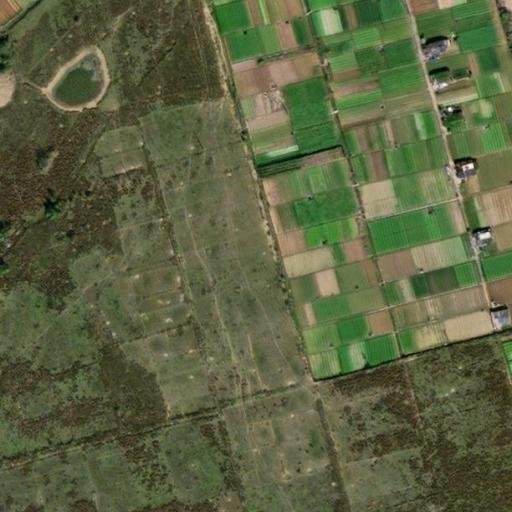building: (441, 157, 469, 182), (417, 40, 438, 56), (482, 307, 501, 323), (467, 229, 483, 244)
